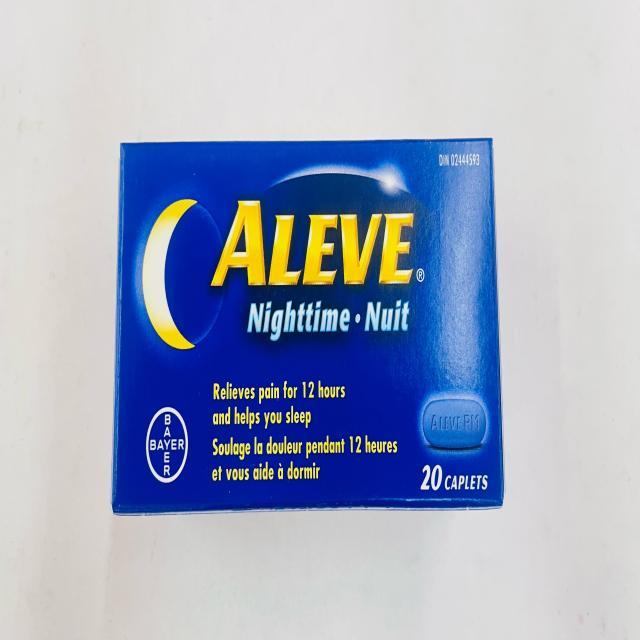Medicine Name: (204, 188, 416, 295)
